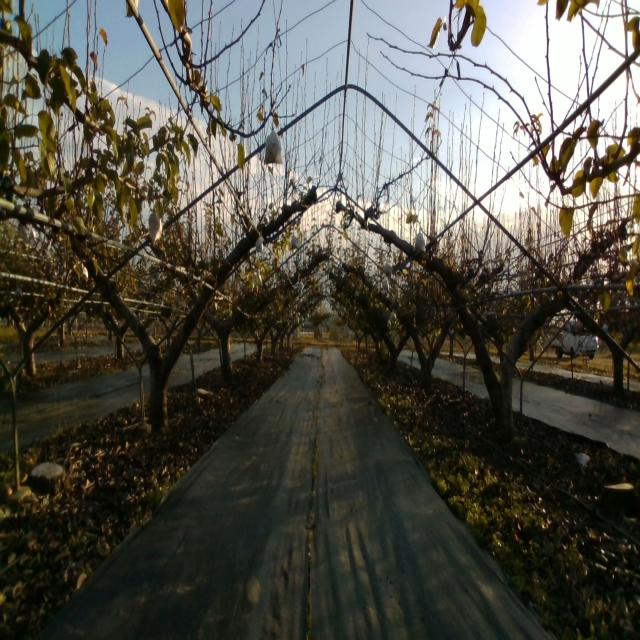pearbags: (262, 120, 282, 166), (148, 214, 162, 243), (412, 226, 427, 252)
